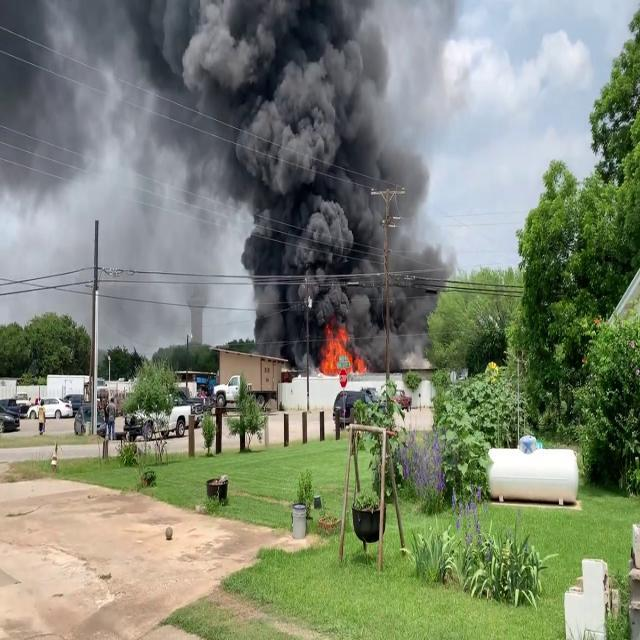Fire: (318, 322, 362, 374)
Smoke: (137, 0, 456, 359), (0, 0, 174, 220)
